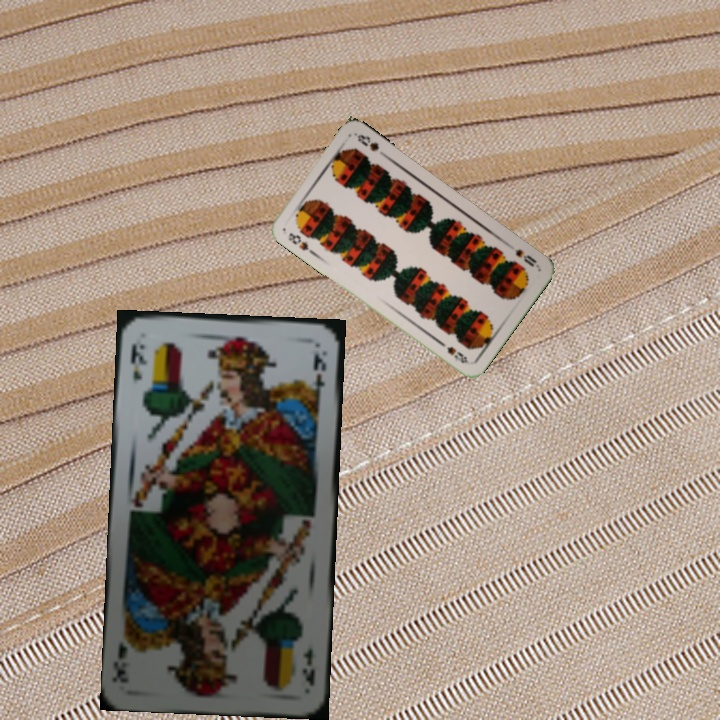EK: (126, 339, 149, 383), (298, 643, 319, 689)
S8: (284, 229, 317, 257), (511, 245, 541, 270)
